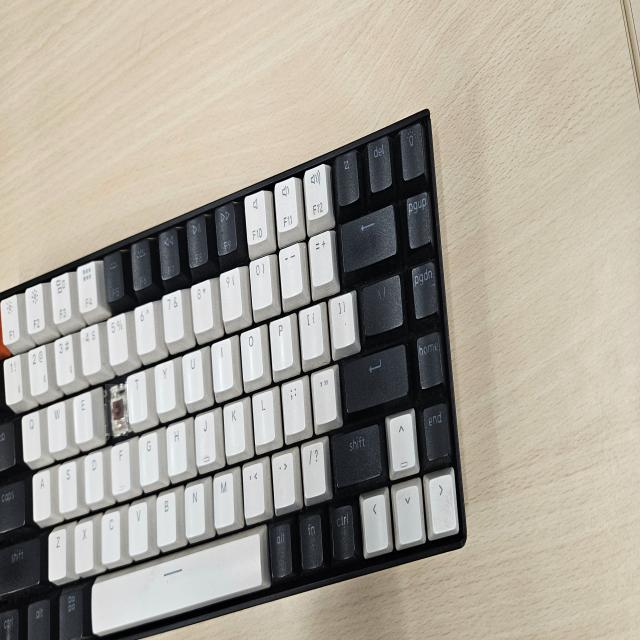C: (105, 384, 128, 436)
